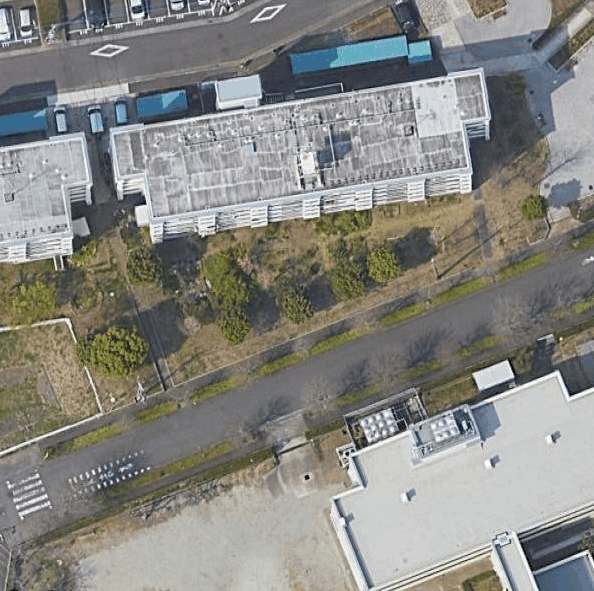flatroof: (101, 68, 503, 226)
